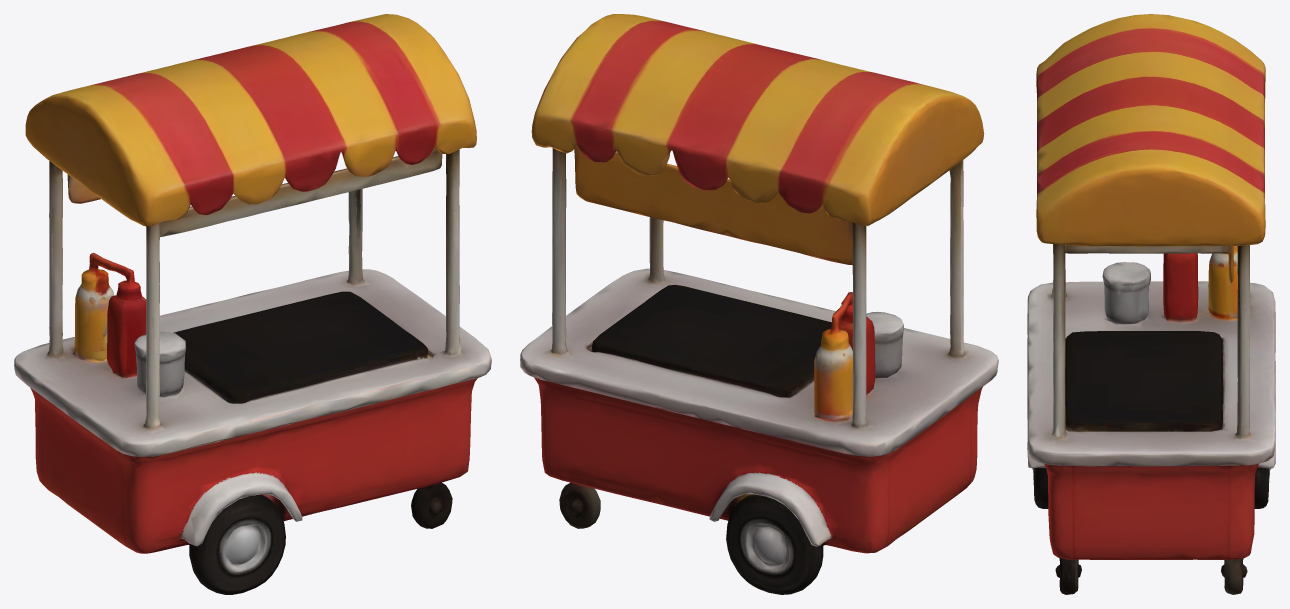
File: bb_burger.glb
3 views of the same model, side by side, from view 1: azimuth 30°, elevation 25°; view 2: azimuth 150°, elevation 25°; view 3: azimuth 270°, elevation 25° (orthographic). The views are drawn at different scales.
Size of the model in its own units: 0.8299 by 1 by 0.5038.
1 material, 1 textured.
